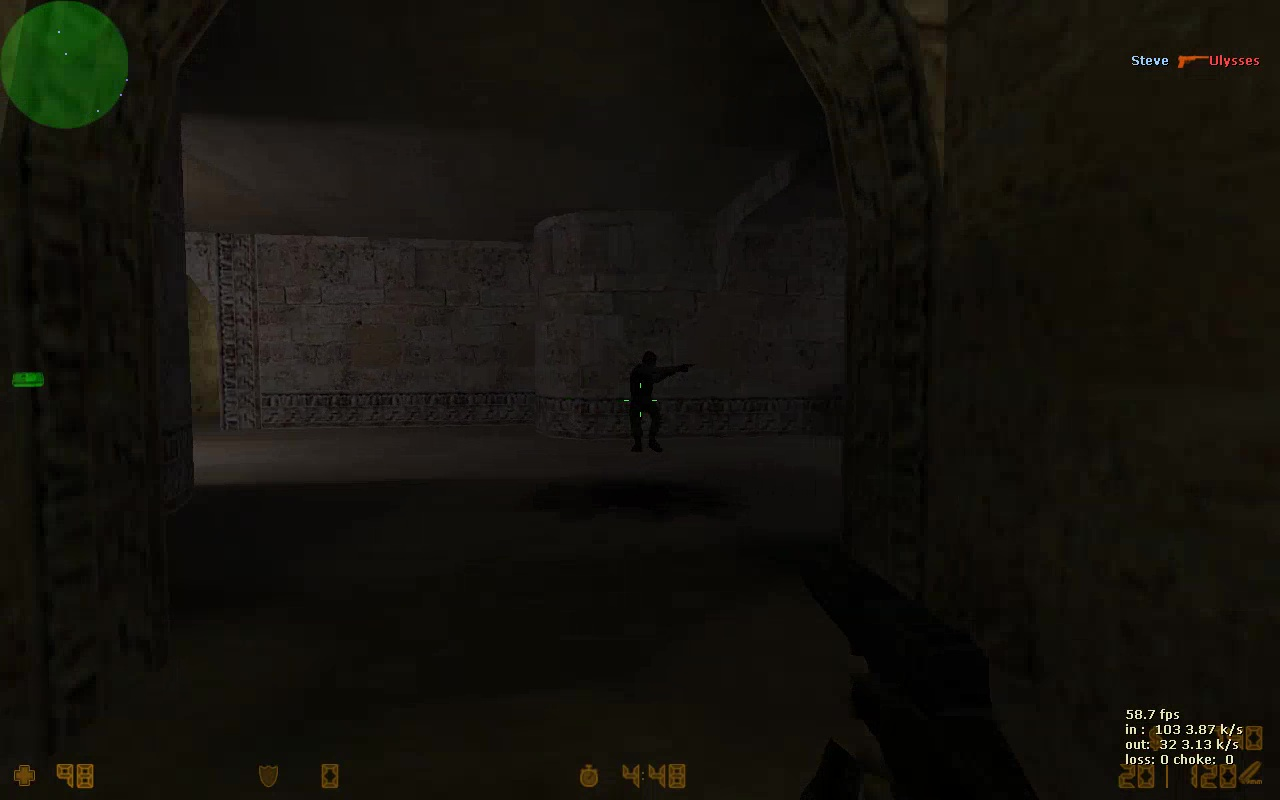terr1: (612, 352, 698, 458)
